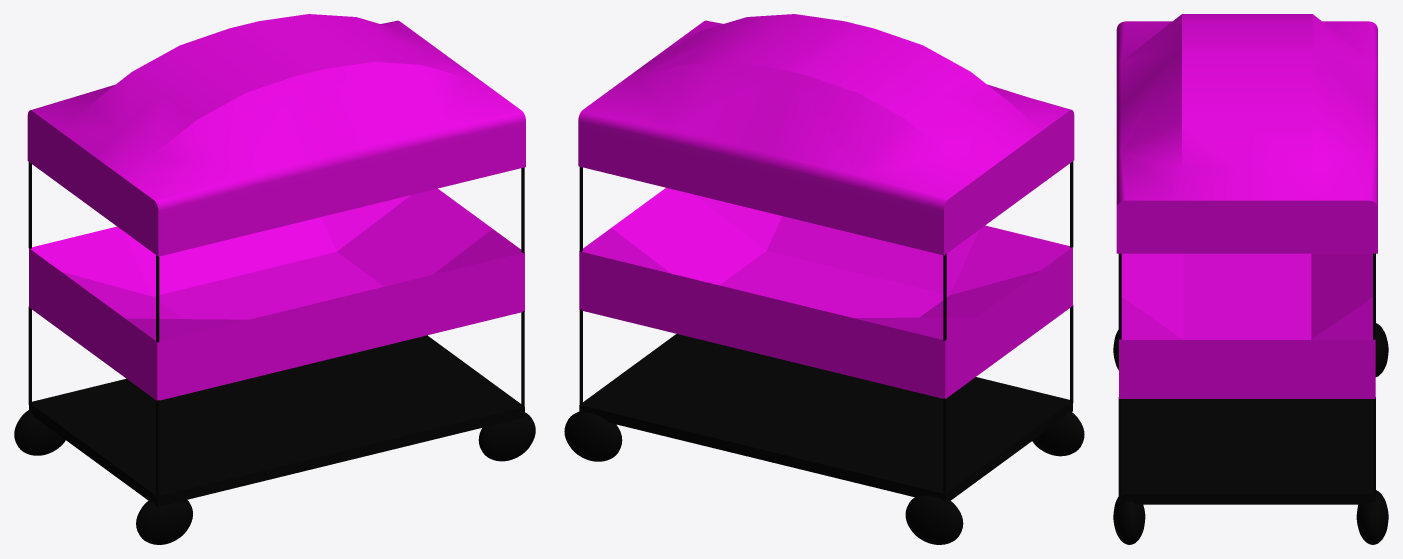
Rendered from PramPink.fbx.
The picture shows the model from 3 angles, left to right: view 1: azimuth 30°, elevation 25°; view 2: azimuth 150°, elevation 25°; view 3: azimuth 270°, elevation 25°; orthographic projection.
Parts seen in each view (by area): view 1: pCube11, pCube1, pCube10, pSphere2, pSphere1, pSphere3; view 2: pCube11, pCube1, pCube10, pSphere3, pSphere4, pSphere2; view 3: pCube11, pCube1, pCube10, pSphere4, pSphere1, pSphere3, pCube7, pCube5.
Part boxes in pixels (box(x1,y1,x2,y2)): pCube11: box(27, 14, 525, 256); pCube1: box(29, 188, 524, 400); pCube10: box(29, 335, 524, 506); pSphere2: box(136, 499, 192, 544); pSphere1: box(478, 412, 535, 461); pSphere3: box(14, 410, 65, 455); pCube11: box(578, 14, 1074, 255); pCube1: box(579, 187, 1072, 398); pCube10: box(579, 334, 1072, 501); pSphere3: box(905, 495, 963, 544); pSphere4: box(564, 411, 622, 461); pSphere2: box(1032, 411, 1084, 456); pCube11: box(1116, 14, 1377, 253); pCube1: box(1119, 253, 1375, 398); pCube10: box(1119, 399, 1375, 504); pSphere4: box(1356, 490, 1388, 544); pSphere1: box(1113, 496, 1145, 544); pSphere3: box(1375, 323, 1388, 376); pCube7: box(1118, 397, 1121, 496); pCube5: box(1118, 253, 1121, 339).
Bounding box in the file's own units: 7.82 × 7.69 × 4.69.
